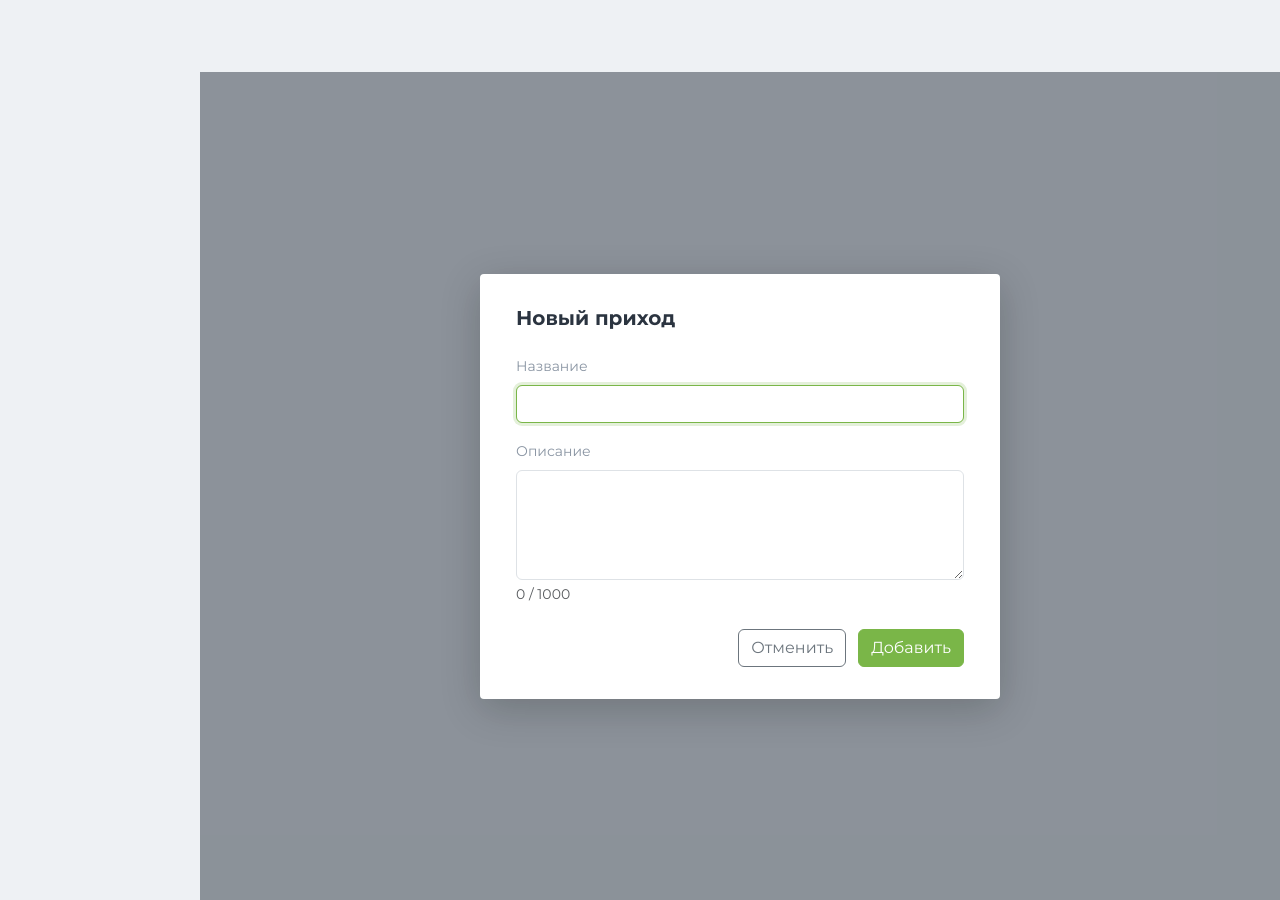
Test: AddOrderModal › shows a min length error for a too short title
In the field labelled "Название": (740, 404) [516,384,964,422], type "Аб"
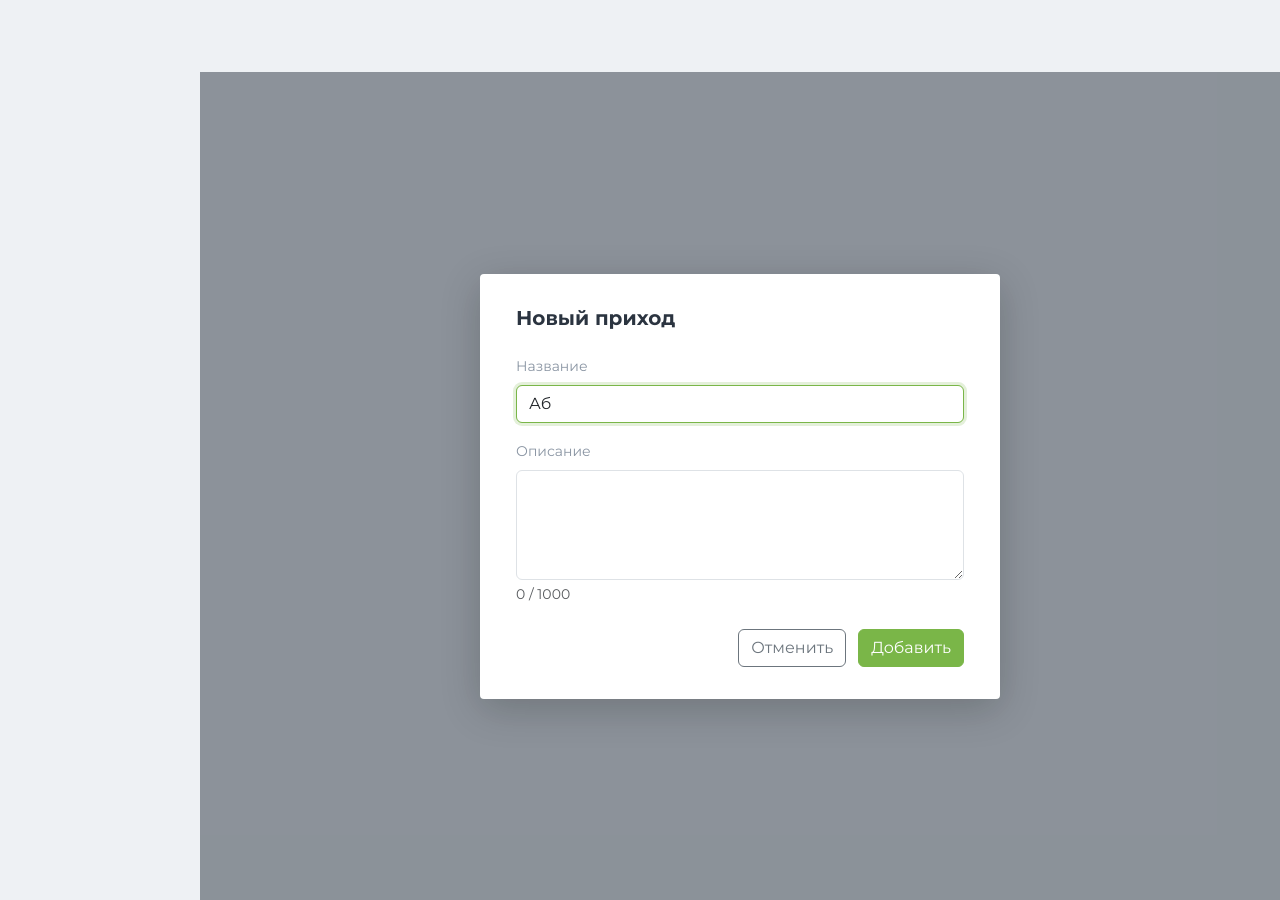
Click the button "Добавить": (911, 648) [858,628,964,666]
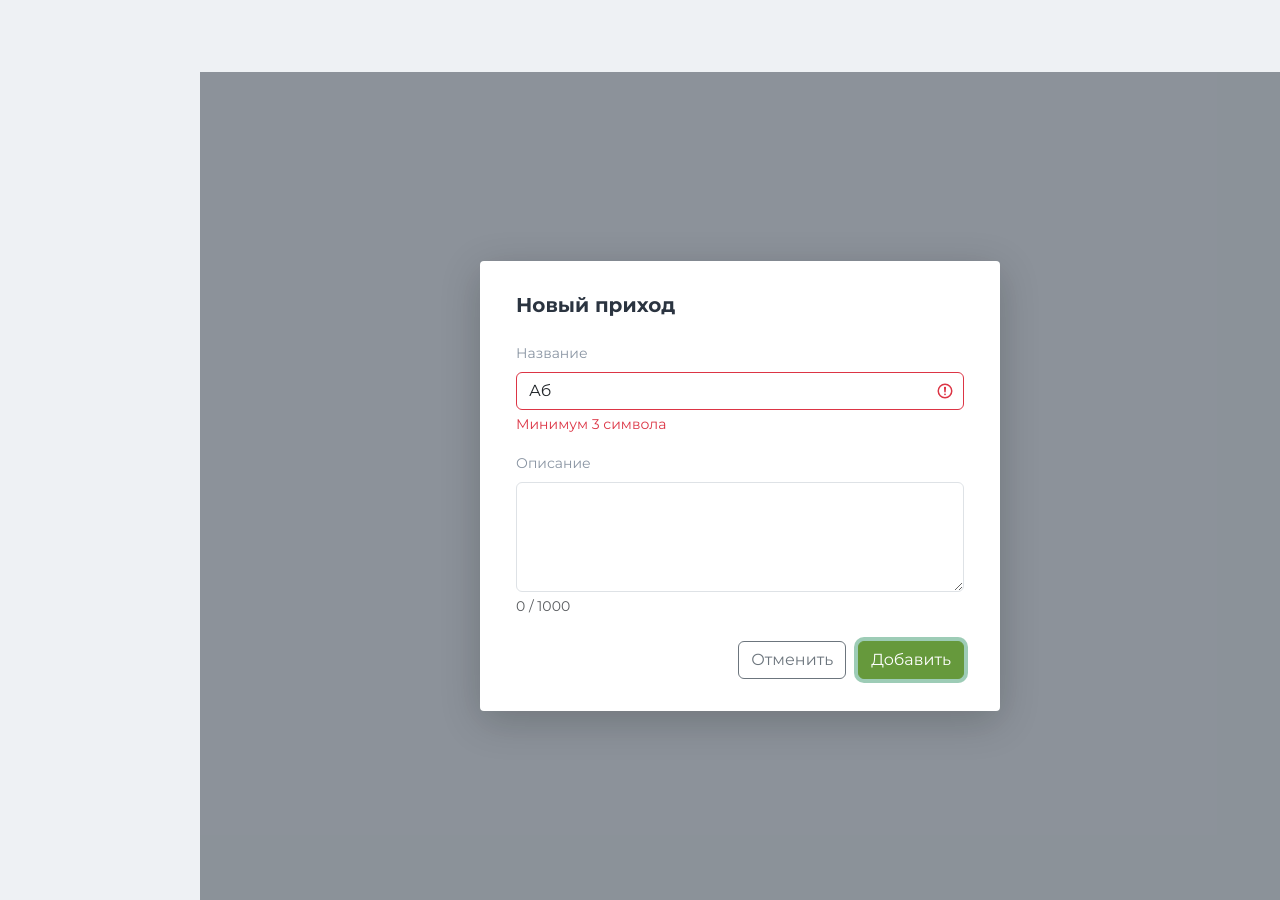
Result: the text "Минимум 3 символа" is shown at [516,415,666,433]
